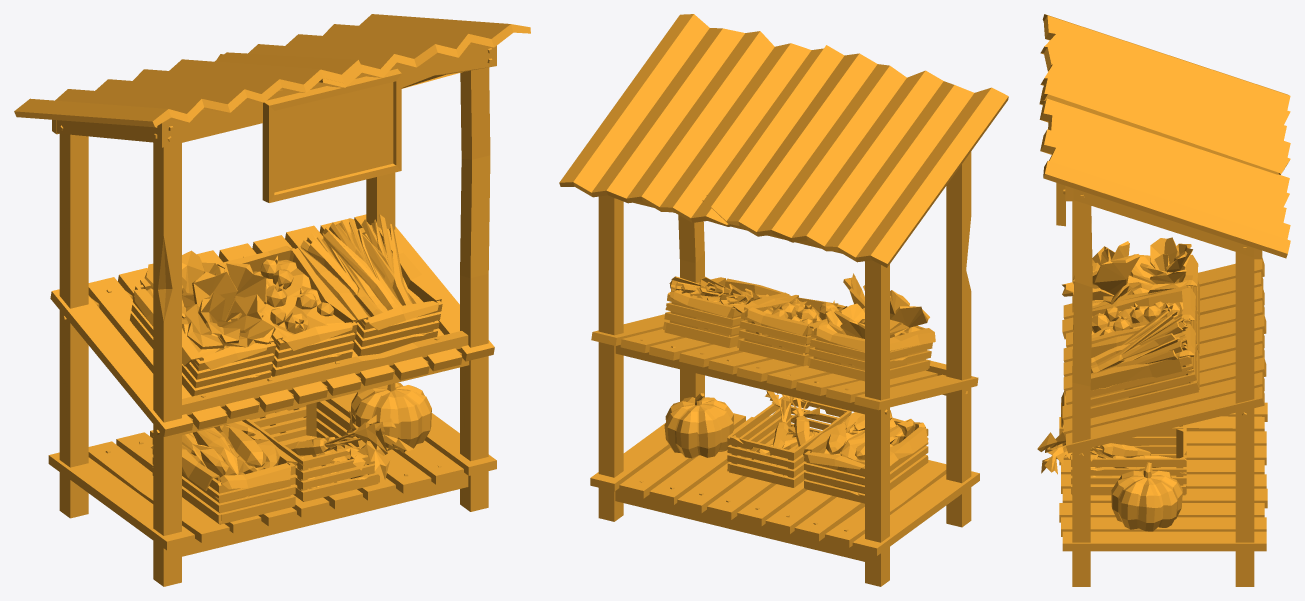
Rendered from SM_Produce_Stand_A_Full_Farm.fbx.
3 renders of one model, left to right at view 1: azimuth 30°, elevation 25°; view 2: azimuth 150°, elevation 25°; view 3: azimuth 270°, elevation 25°, orthographic. The views are drawn at different scales.
Parts seen in each view (by area): view 1: produce-stand-a-full-farm; view 2: produce-stand-a-full-farm; view 3: produce-stand-a-full-farm.
Part boxes in pixels (x1,y1,x2,y2): produce-stand-a-full-farm: (14, 14, 530, 586); produce-stand-a-full-farm: (559, 14, 1008, 586); produce-stand-a-full-farm: (1037, 14, 1290, 586).
Bounding box in the file's own units: 2 × 2.49 × 1.33.
